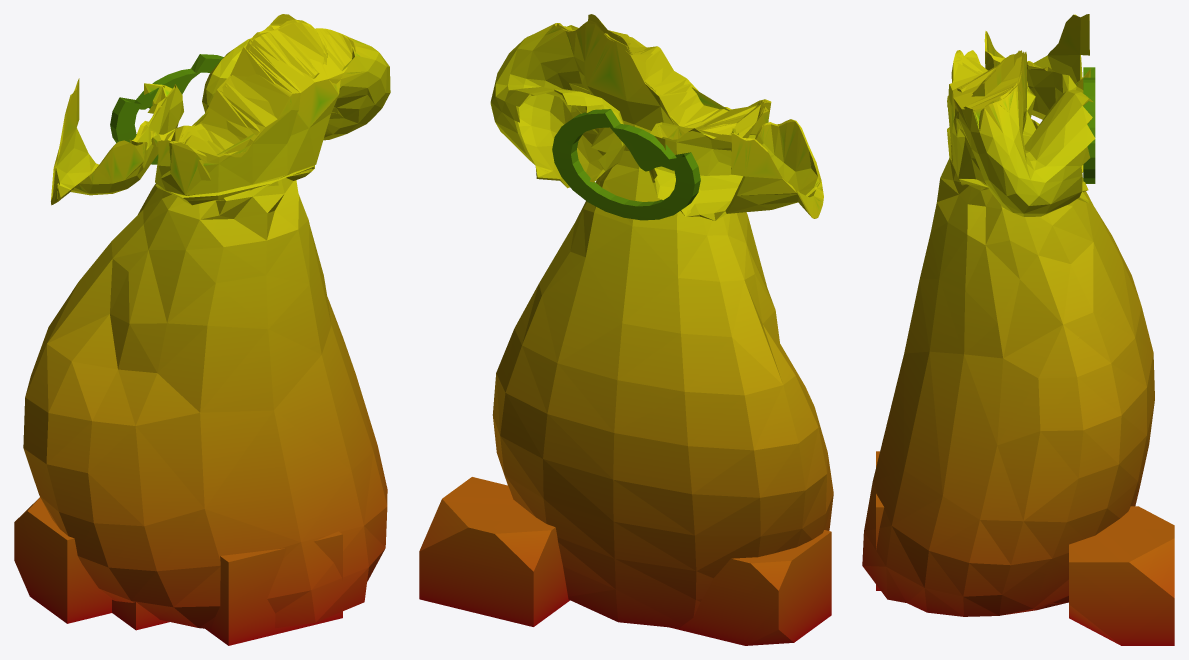
Rendered from statue_kneel_broken.glb.
The picture shows the model from 3 angles, left to right: view 1: azimuth 30°, elevation 25°; view 2: azimuth 150°, elevation 25°; view 3: azimuth 270°, elevation 25°; orthographic projection.
Visible parts, largest first — view 1: statue_kneel_broken; view 2: statue_kneel_broken; view 3: statue_kneel_broken.
Part boxes in pixels (left/top/right/bottom): statue_kneel_broken: left=14, top=14, right=390, bottom=645; statue_kneel_broken: left=419, top=14, right=833, bottom=645; statue_kneel_broken: left=862, top=14, right=1174, bottom=645.
Size of what is drawn, in the model's own units: 1.6 by 2.47 by 1.28.
